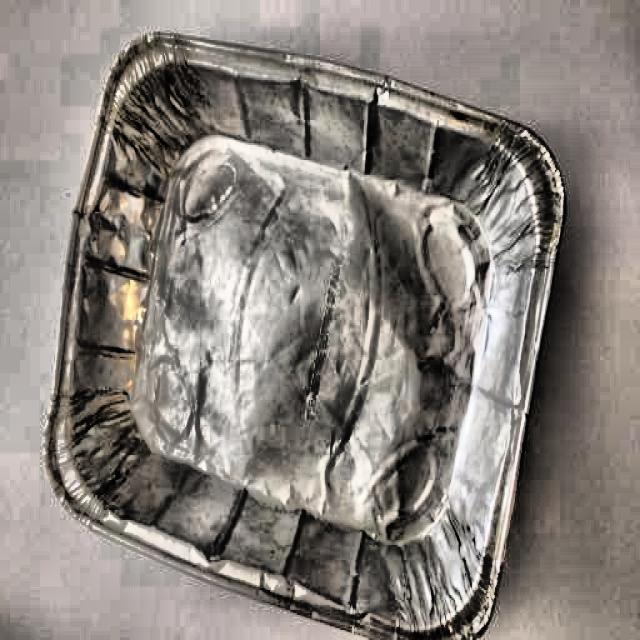metal: (45, 35, 571, 640)
